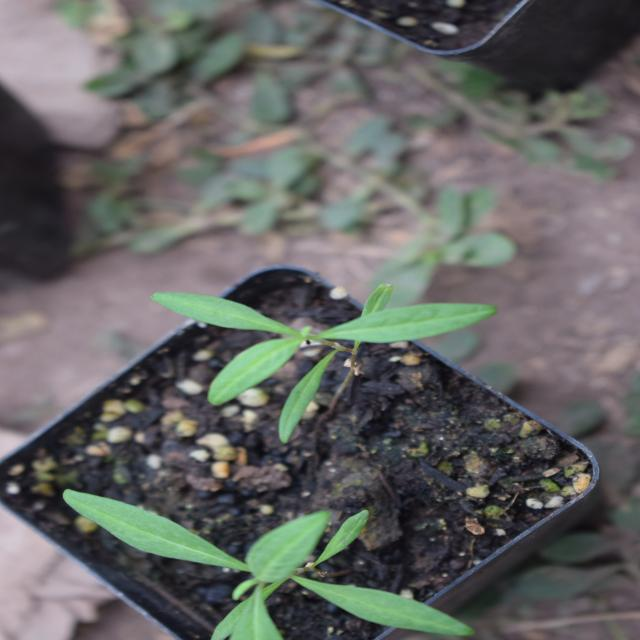white_smart_weed: (202, 145, 407, 484)
